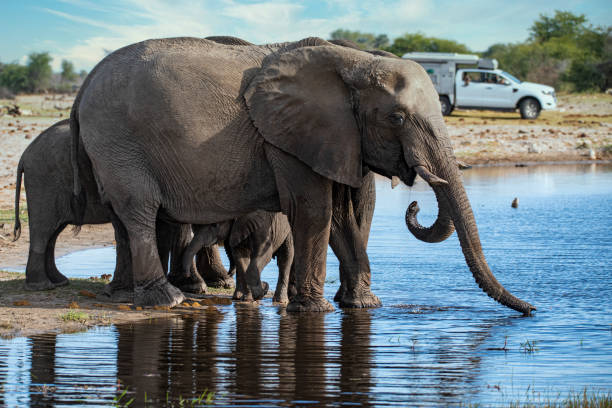africanelephant: (295, 61, 460, 218)
